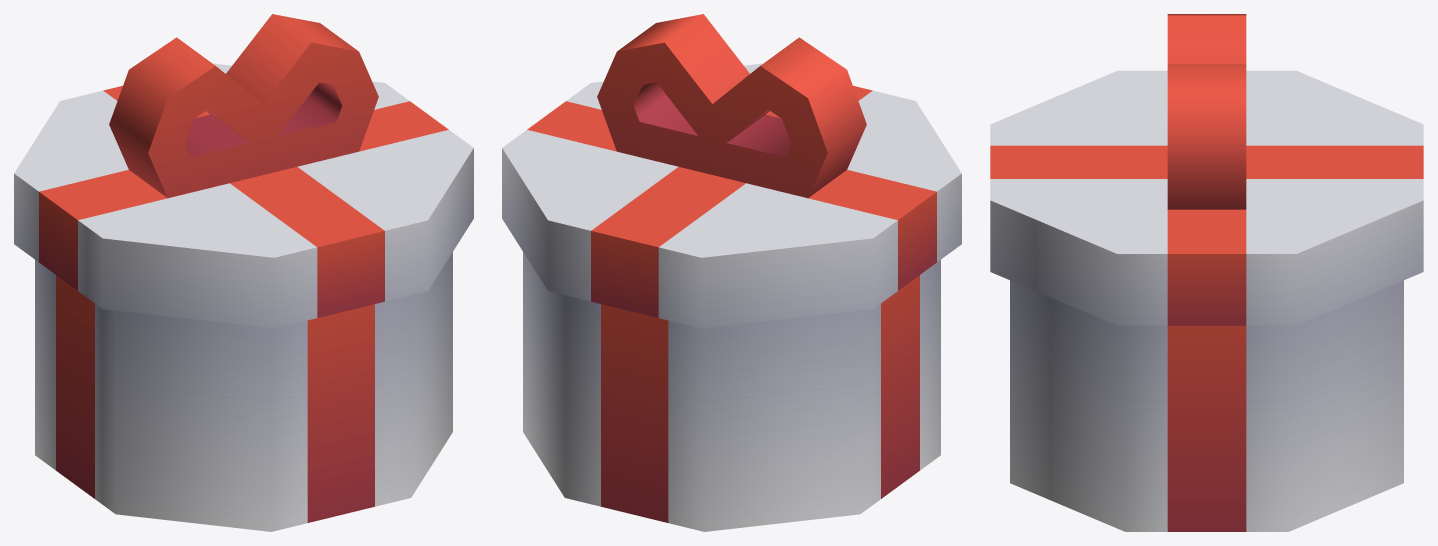
File: present-a-round.obj
The picture shows the model from 3 angles, left to right: view 1: azimuth 30°, elevation 25°; view 2: azimuth 150°, elevation 25°; view 3: azimuth 270°, elevation 25°; orthographic projection.
Visible parts, largest first — view 1: lid, present-a-round; view 2: lid, present-a-round; view 3: lid, present-a-round.
Boxes of the visible parts, left/top/right/bottom form: lid: left=14, top=14, right=473, bottom=328; present-a-round: left=35, top=252, right=452, bottom=531; lid: left=502, top=14, right=961, bottom=328; present-a-round: left=523, top=252, right=940, bottom=531; lid: left=990, top=14, right=1423, bottom=325; present-a-round: left=1010, top=280, right=1403, bottom=531.
Size of the model in its own units: 0.5489 by 0.5707 by 0.5489.
Materials: 1 (1 with a texture image).
